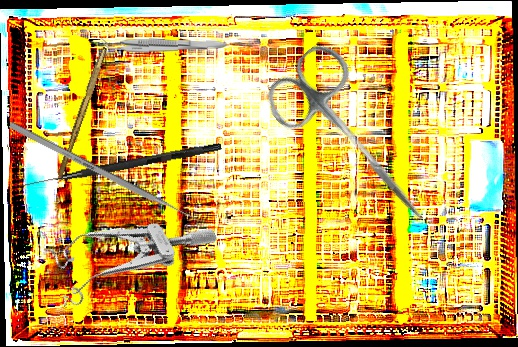Hook Surgical: (21, 140, 222, 192)
Iris Scissors: (256, 36, 459, 247)
Pusher: (8, 121, 209, 229)
Scalpel Handle: (56, 45, 108, 178)
Speculum: (36, 175, 219, 322)
Tissue Forceps: (100, 33, 227, 55)
